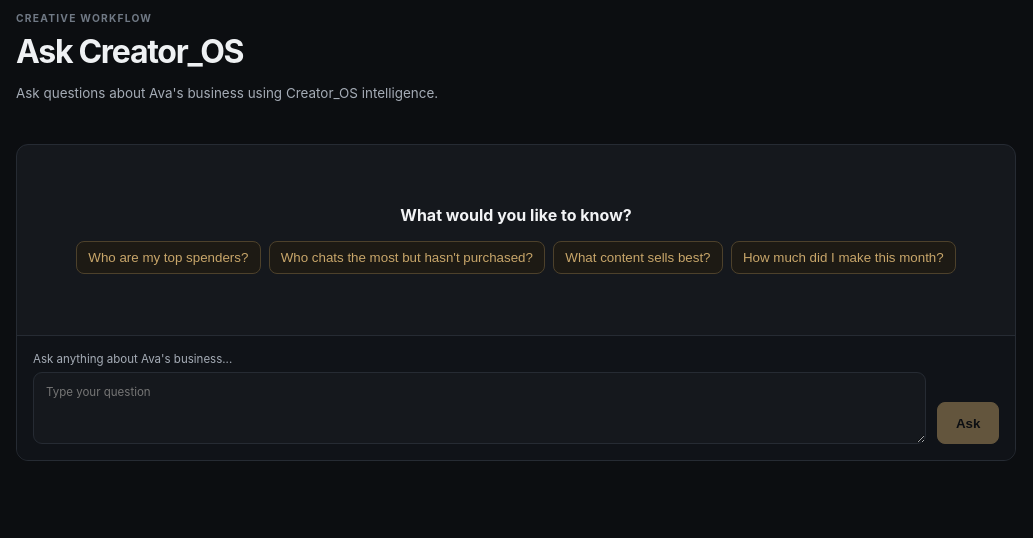
Test case: keeps safe errors and the integrated composer available for retry
Type "How much did I make today?" into the text box labelled "Ask anything about Ava's business..." at (480, 408), box left=33, top=372, right=926, bottom=444
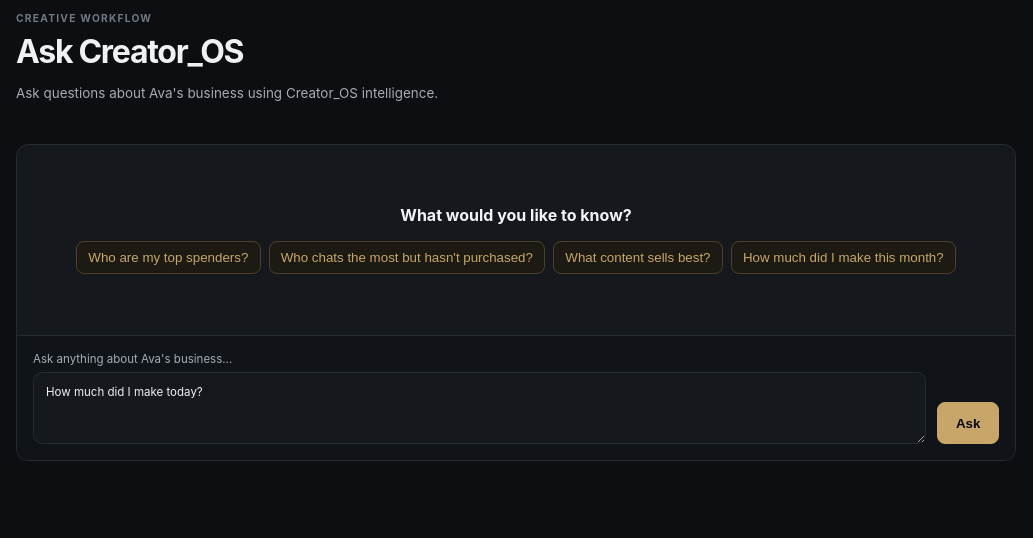
Click the button "Ask" at (968, 423), box left=937, top=402, right=999, bottom=444
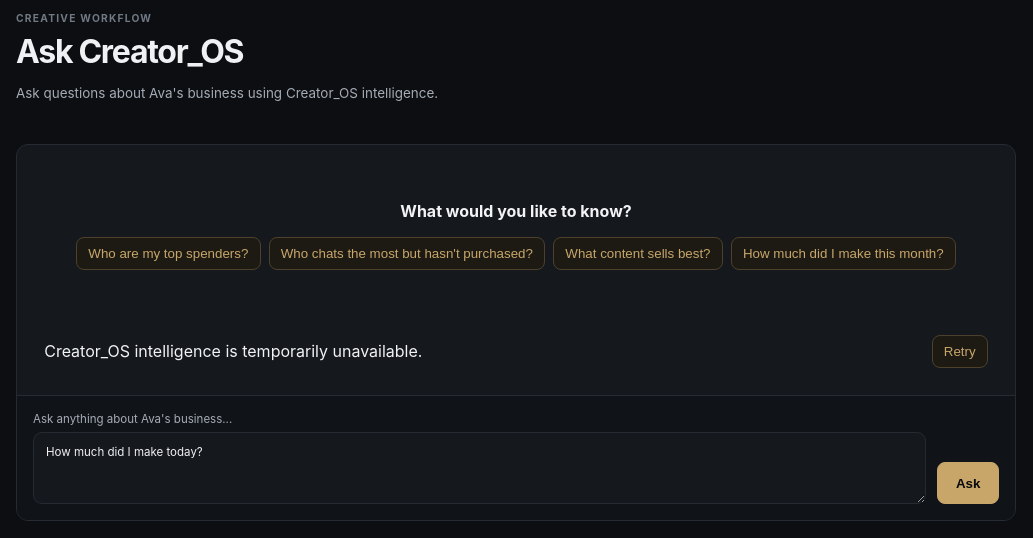
Expected: the message shows "temporarily unavailable", left=44, top=341, right=422, bottom=361
Expected: the button "Retry" is shown, left=932, top=335, right=988, bottom=368
